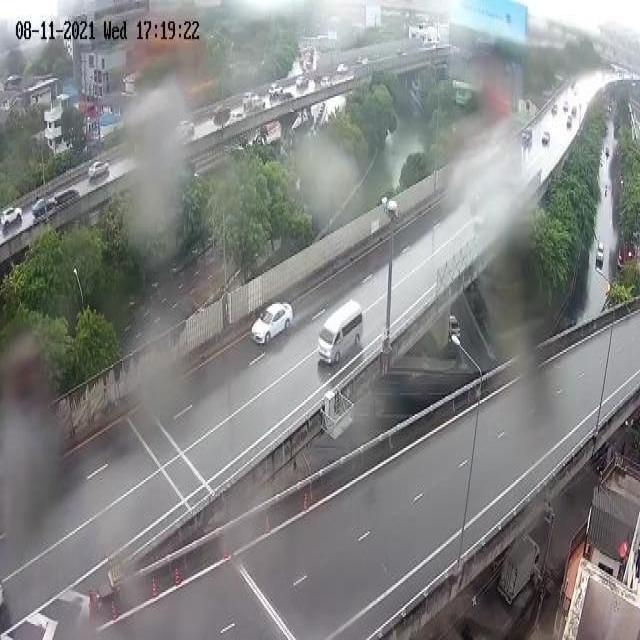Car: (253, 281, 294, 359), (0, 195, 24, 233), (173, 114, 200, 146), (88, 152, 114, 182), (243, 87, 265, 116), (592, 240, 610, 270), (211, 101, 229, 127), (267, 80, 286, 103), (540, 126, 551, 154), (294, 73, 308, 94)
Van: (314, 289, 365, 370)
